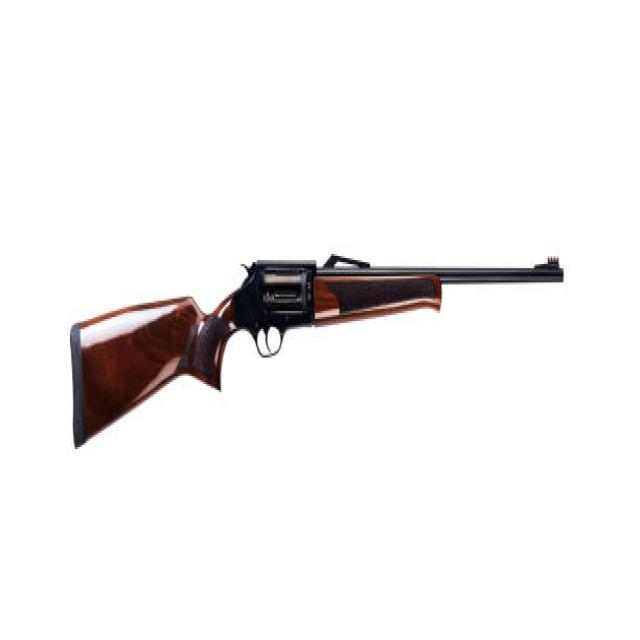rifle: (70, 248, 567, 457)
